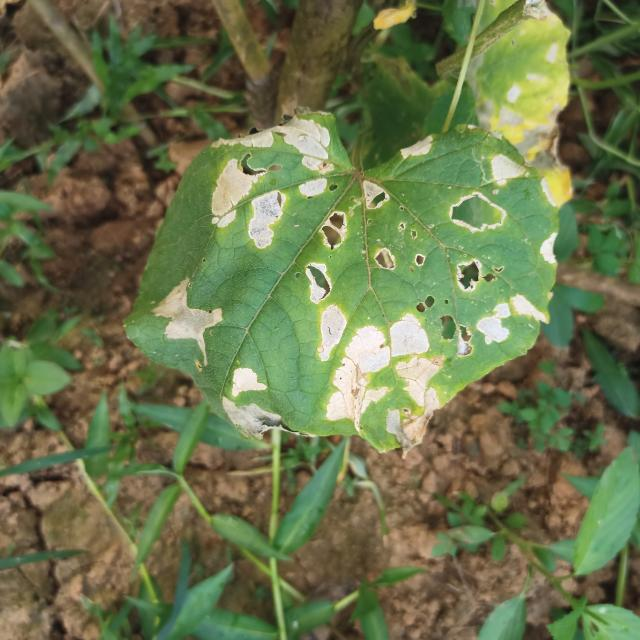disease_cucumber: (152, 131, 545, 416)
